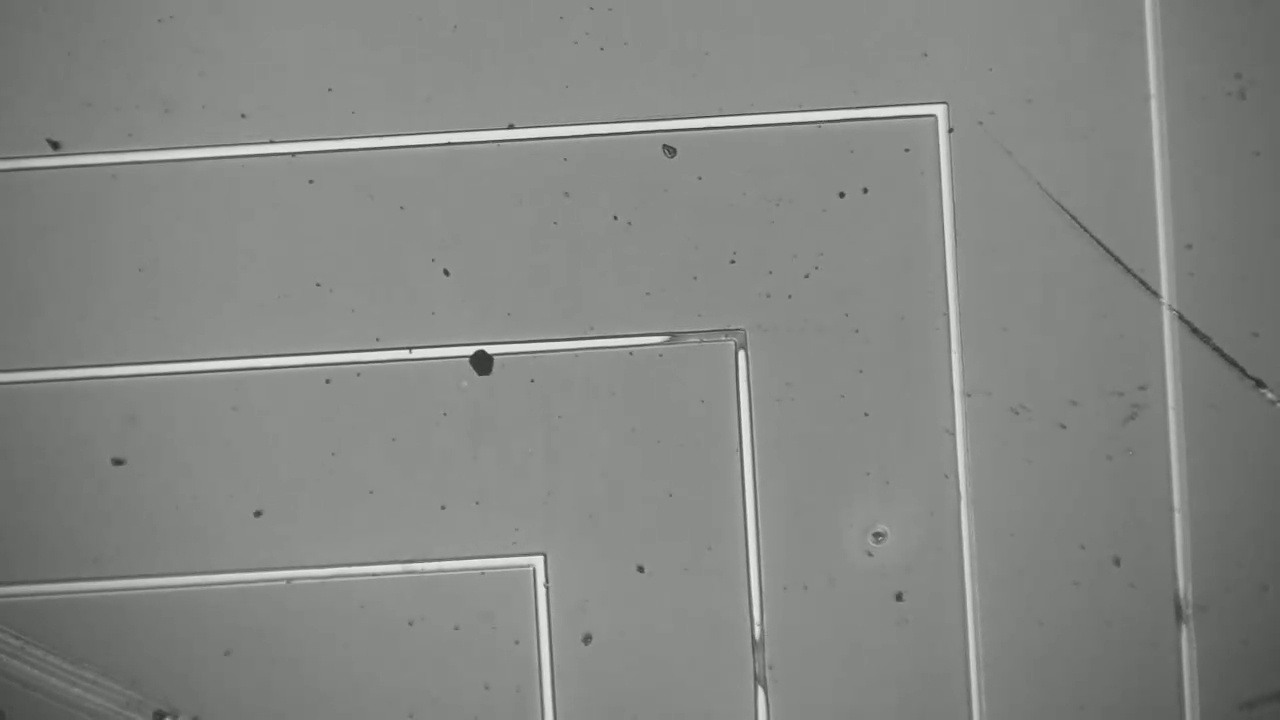edge_bite: (527, 577, 554, 594)
gray_line: (651, 324, 765, 351), (745, 625, 777, 703), (1166, 572, 1200, 639), (727, 318, 754, 366)
scratch: (968, 114, 1279, 479), (0, 619, 177, 714)
stains_enbedded: (459, 333, 503, 385)
